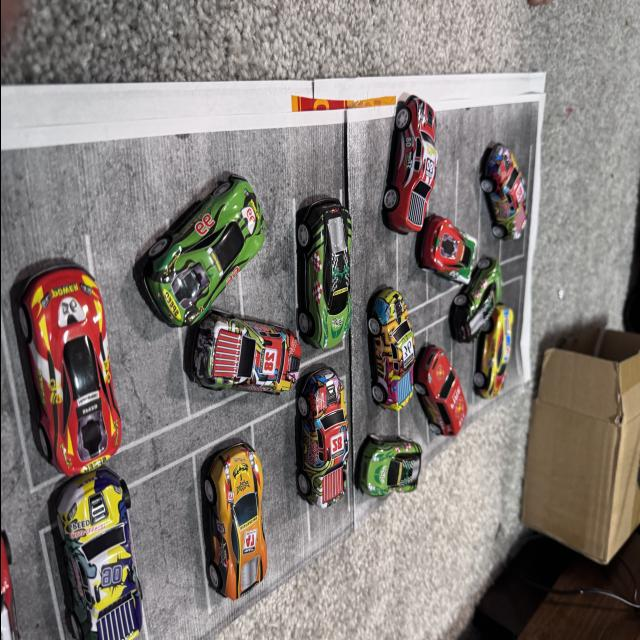Car: (8, 237, 148, 544), (125, 148, 272, 304), (37, 473, 145, 640), (362, 13, 436, 238), (190, 434, 270, 620), (291, 179, 358, 393), (190, 300, 300, 428), (351, 260, 421, 432), (478, 85, 546, 246), (390, 334, 470, 452), (299, 354, 351, 518), (343, 418, 428, 516), (435, 253, 513, 349), (478, 308, 524, 417), (418, 218, 472, 292), (0, 486, 22, 640)
